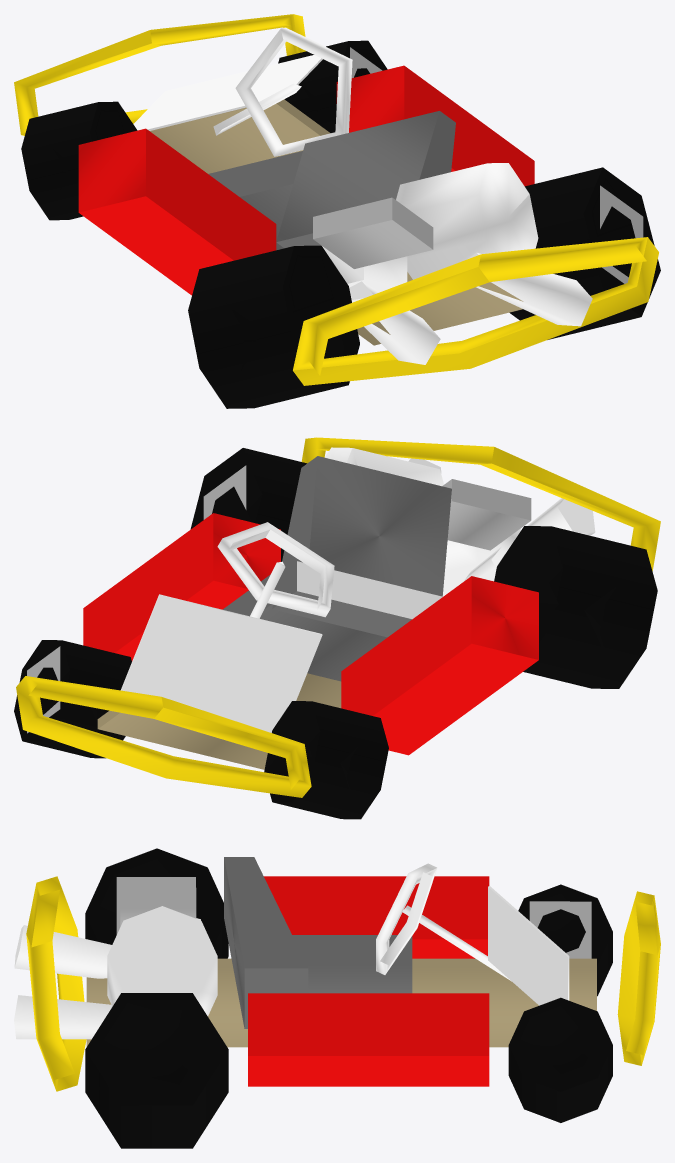
Rendered from ps2_save-icons_moorhuhnfunkart2008.glb.
3 renders of one model, top to bottom at view 1: azimuth 30°, elevation 25°; view 2: azimuth 150°, elevation 25°; view 3: azimuth 270°, elevation 25°, orthographic. The views are drawn at different scales.
Parts seen in each view (by area): view 1: MHK2.ICO; view 2: MHK2.ICO; view 3: MHK2.ICO.
Part boxes in pixels (x1,y1,x2,y2): MHK2.ICO: (14,14,660,408); MHK2.ICO: (14,437,660,819); MHK2.ICO: (14,848,660,1148).
Size of the model in its own units: 2.66 by 1.44 by 4.06.
1 material, 1 textured.
